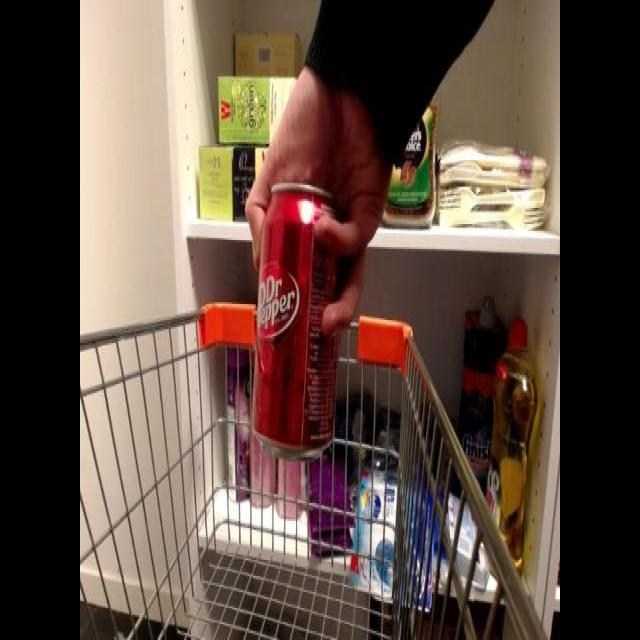Dr Pepper: (249, 174, 352, 468)
